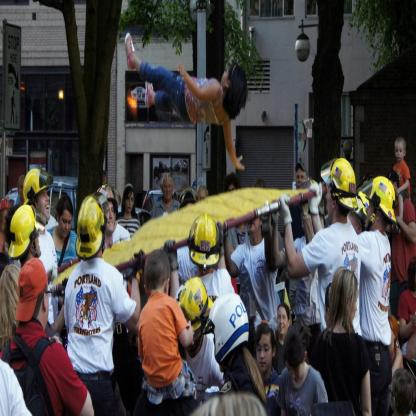Helmet: (202, 288, 248, 376), (186, 210, 221, 271), (75, 193, 106, 257), (177, 280, 214, 328), (328, 155, 359, 208), (8, 201, 36, 259), (371, 176, 401, 230), (20, 164, 52, 200), (352, 190, 377, 223)
